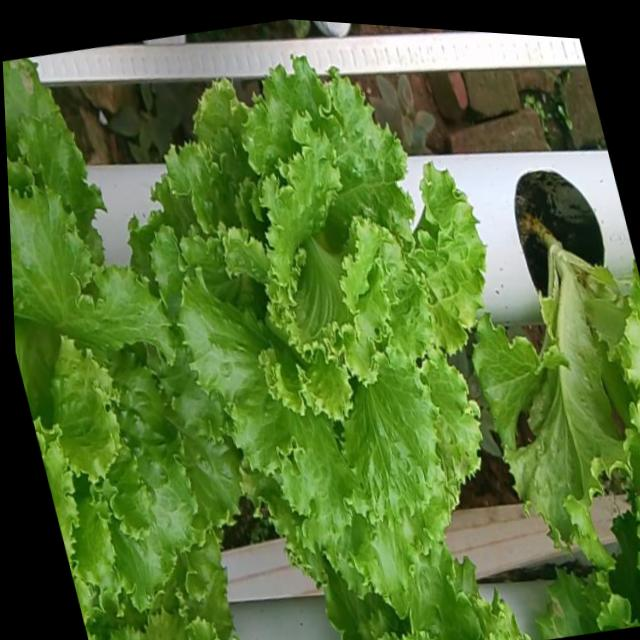Mature: (152, 38, 489, 581), (7, 159, 246, 594)
